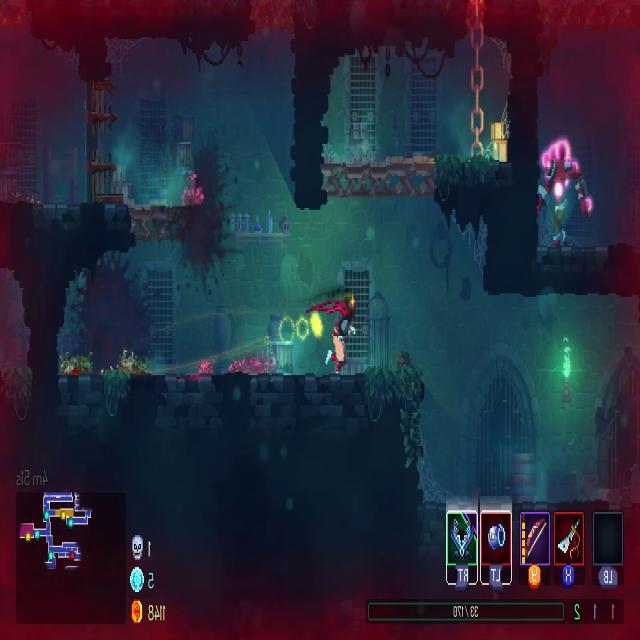agents: (311, 295, 357, 377)
enemy_purple_big: (540, 141, 594, 250)
